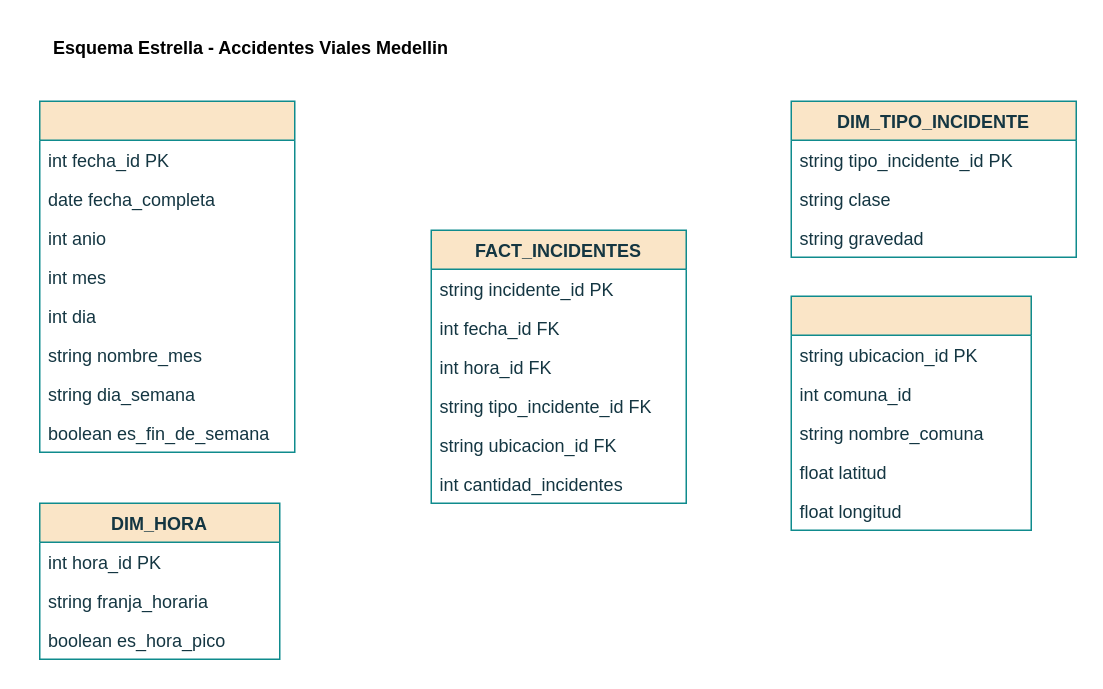
This 1103x689 diagram has some shape labels left out. The shapes that lost their labels are listed below. From the top down, each one's box as (x1, y1, x2, y2) in pixels, then its label:
(38, 100, 295, 452): DIM_FECHA
(790, 295, 1031, 530): DIM_UBICACION
